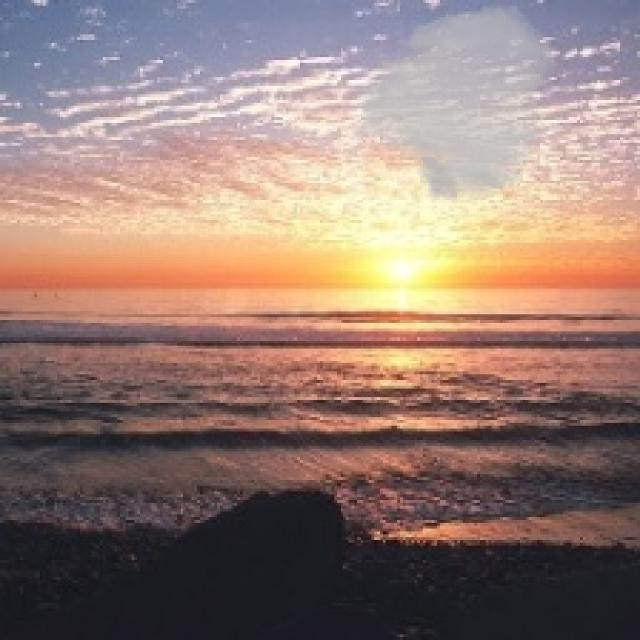Smoke: (346, 3, 560, 206)
